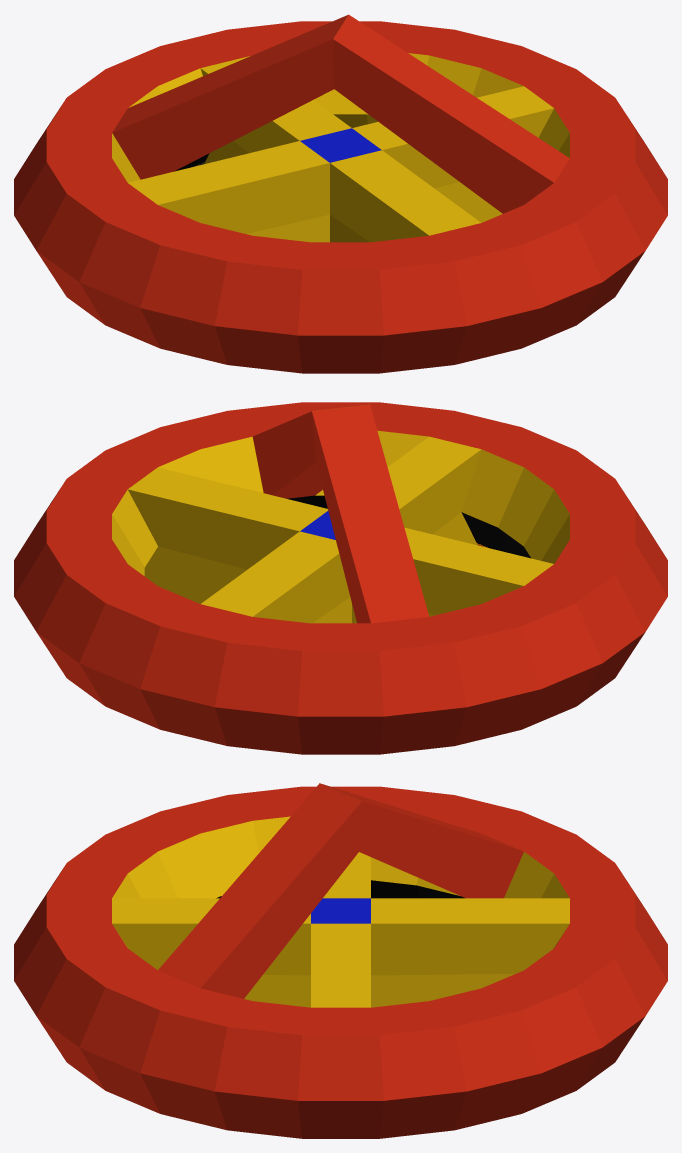
Rendered from enemy_ship_torus.fbx.
The picture shows the model from 3 angles, top to bottom: view 1: azimuth 30°, elevation 25°; view 2: azimuth 150°, elevation 25°; view 3: azimuth 270°, elevation 25°; orthographic projection.
Visible parts, largest first — view 1: enemy_ship_torus.001; view 2: enemy_ship_torus.001; view 3: enemy_ship_torus.001.
Boxes of the visible parts, x1,y1,x2,y2 form: enemy_ship_torus.001: [14, 14, 667, 373]; enemy_ship_torus.001: [14, 402, 667, 754]; enemy_ship_torus.001: [14, 783, 667, 1138].
Size of the model in its own units: 248 by 92.98 by 248.
